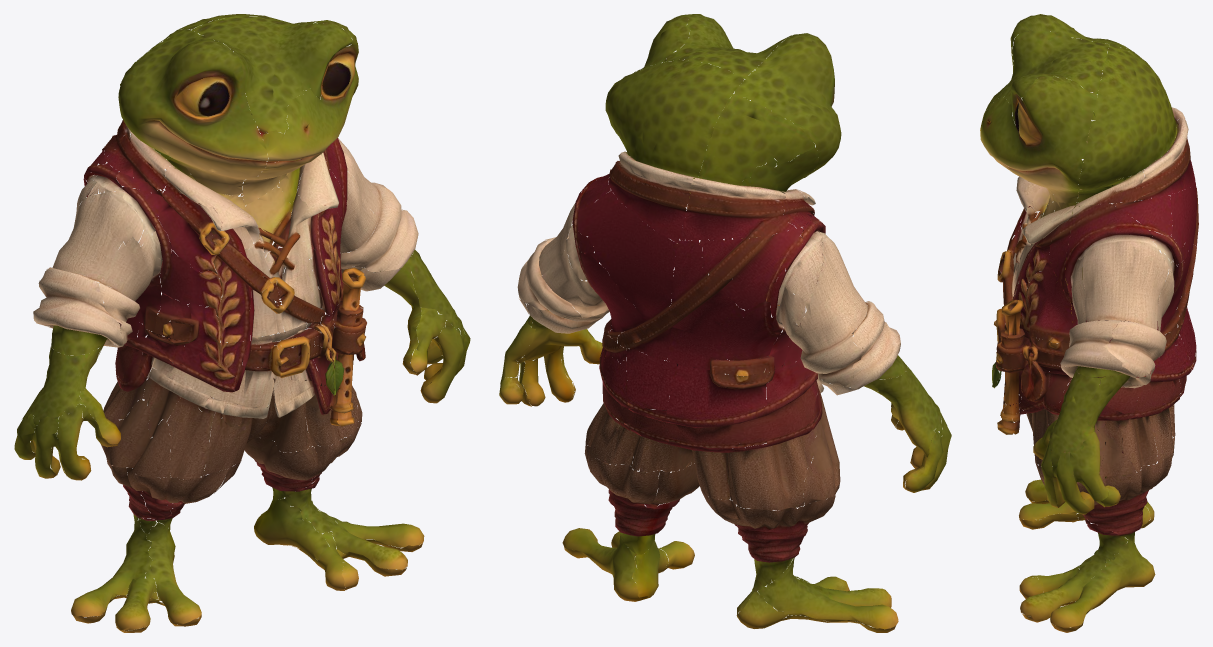
Rendered from 12_music_frog-v1.glb.
3 renders of one model, left to right at view 1: azimuth 30°, elevation 25°; view 2: azimuth 150°, elevation 25°; view 3: azimuth 270°, elevation 25°, orthographic. The views are drawn at different scales.
Visible parts, largest first — view 1: tripo_node_c1541f2a-e109-4d2b-af29-219d49d8d12a; view 2: tripo_node_c1541f2a-e109-4d2b-af29-219d49d8d12a; view 3: tripo_node_c1541f2a-e109-4d2b-af29-219d49d8d12a.
Part boxes in pixels (bbox=[...]): tripo_node_c1541f2a-e109-4d2b-af29-219d49d8d12a: bbox=[14, 14, 470, 632]; tripo_node_c1541f2a-e109-4d2b-af29-219d49d8d12a: bbox=[499, 14, 951, 632]; tripo_node_c1541f2a-e109-4d2b-af29-219d49d8d12a: bbox=[980, 14, 1198, 632].
Bounding box in the file's own units: 1.33 × 1.65 × 0.6258.
1 material, 1 textured.
